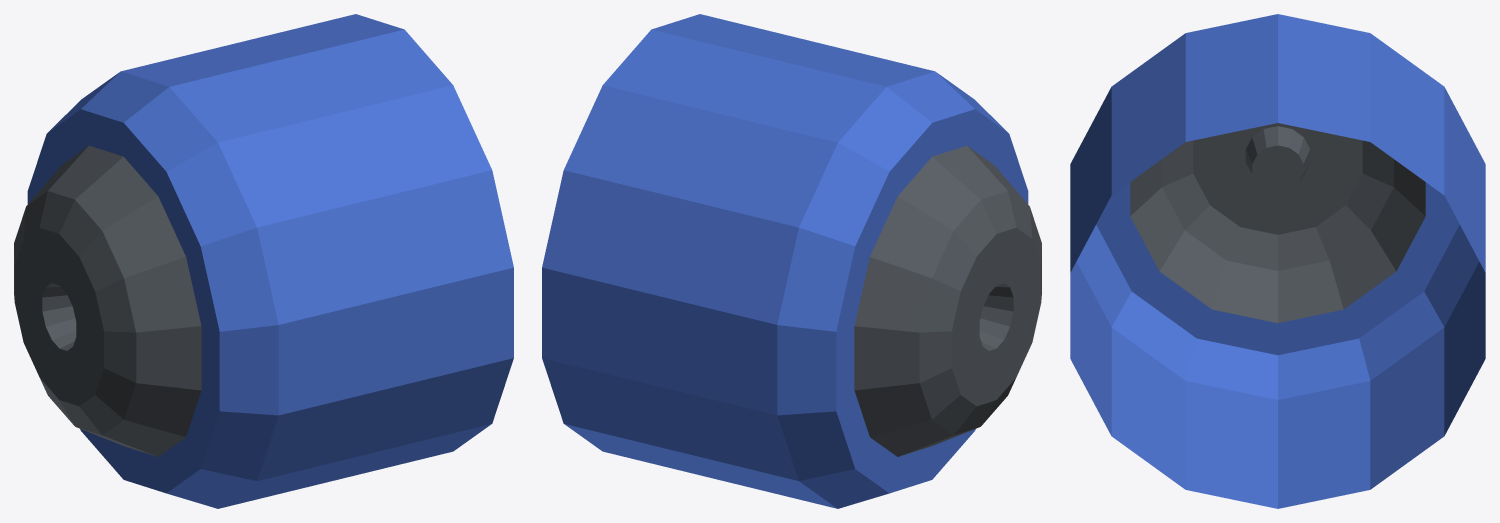
Rendered from Personal_Vehicle_03_Detail_1_Blue.fbx.
The picture shows the model from 3 angles, left to right: view 1: azimuth 30°, elevation 25°; view 2: azimuth 150°, elevation 25°; view 3: azimuth 270°, elevation 25°; orthographic projection. The views are drawn at different scales.
Parts seen in each view (by area): view 1: Personal_Vehicle_03_Detail_1_Blue; view 2: Personal_Vehicle_03_Detail_1_Blue; view 3: Personal_Vehicle_03_Detail_1_Blue.
Part boxes in pixels (x1,y1,x2,y2): Personal_Vehicle_03_Detail_1_Blue: (14,14,513,508); Personal_Vehicle_03_Detail_1_Blue: (542,14,1041,508); Personal_Vehicle_03_Detail_1_Blue: (1070,14,1485,508).
Size of the model in its own units: 9.82 by 11.05 by 10.77.
1 material, 1 textured.
